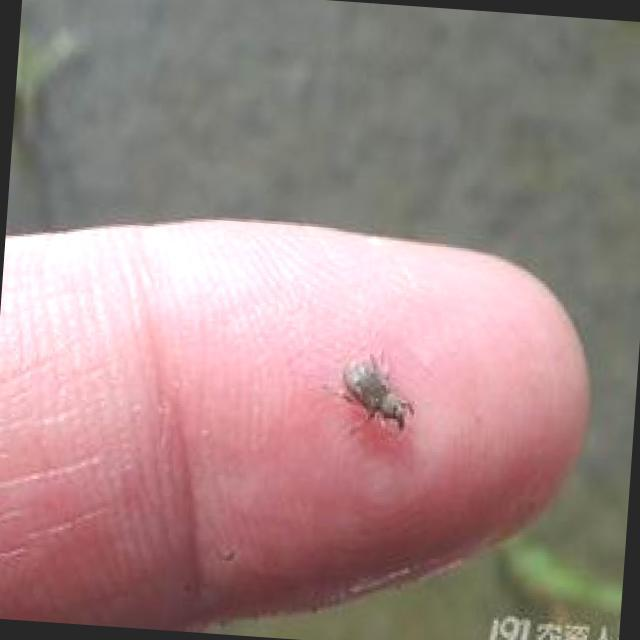ricebug: (343, 356, 411, 428)
